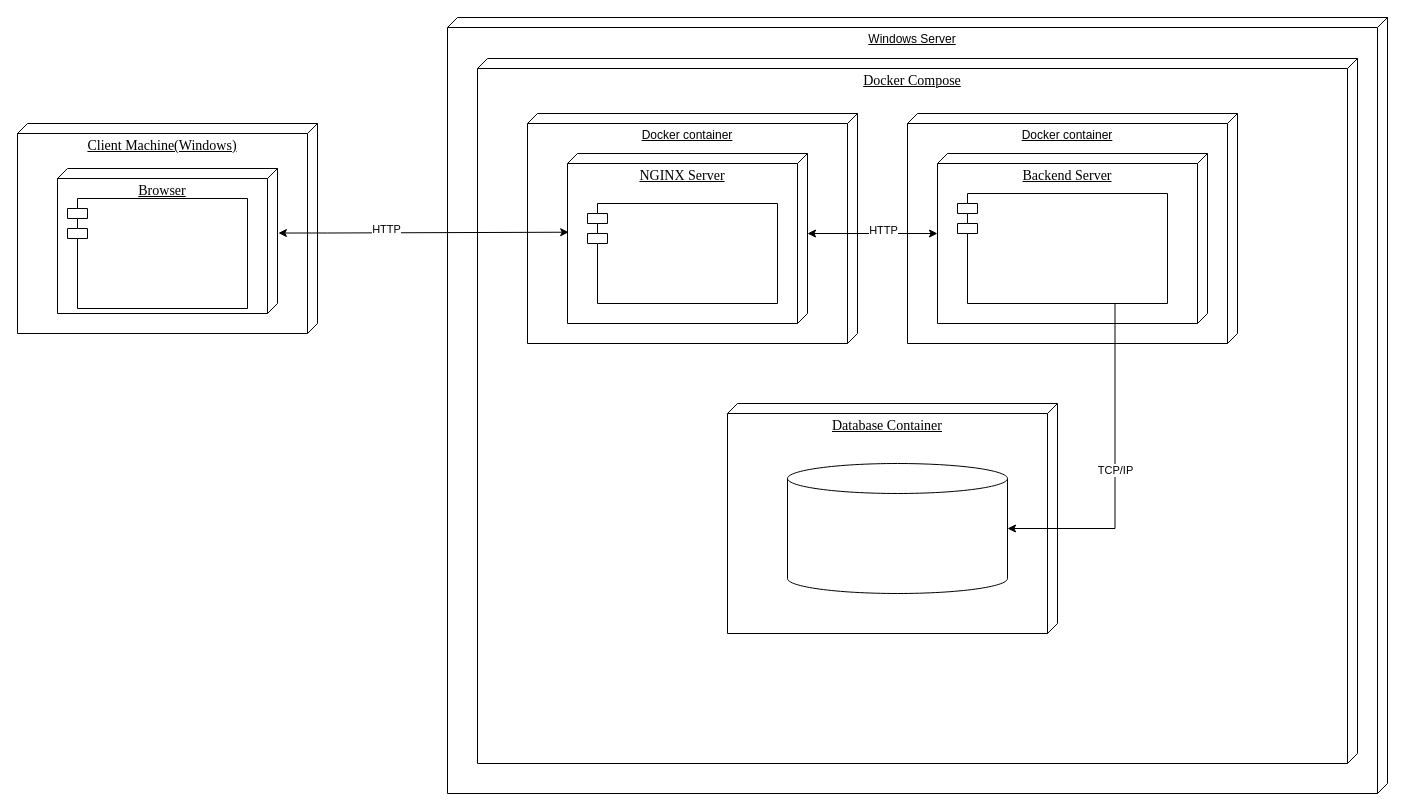
Image size: 1405x811. Some labels were removed from this diagram. The shapes that lost their labels are listed below. From the top down, each one's centre as x and y in pixels, then its label:
the point at 157,253: React JavaScript React router DOM Axios Vite i18next
the point at 682,253: Reverse Proxy Static React Files
the point at 1062,248: Node.js Express pg Drizzle express-oauth2-jwt-bearer express-validator
the point at 897,528: PostgreSQL Server
